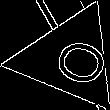O_NW: (34, 28, 104, 88)
